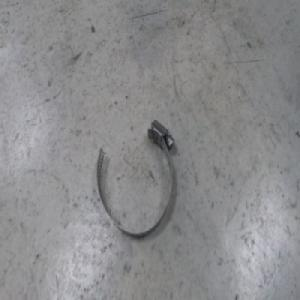AdjustableClamp: (95, 109, 181, 240)
